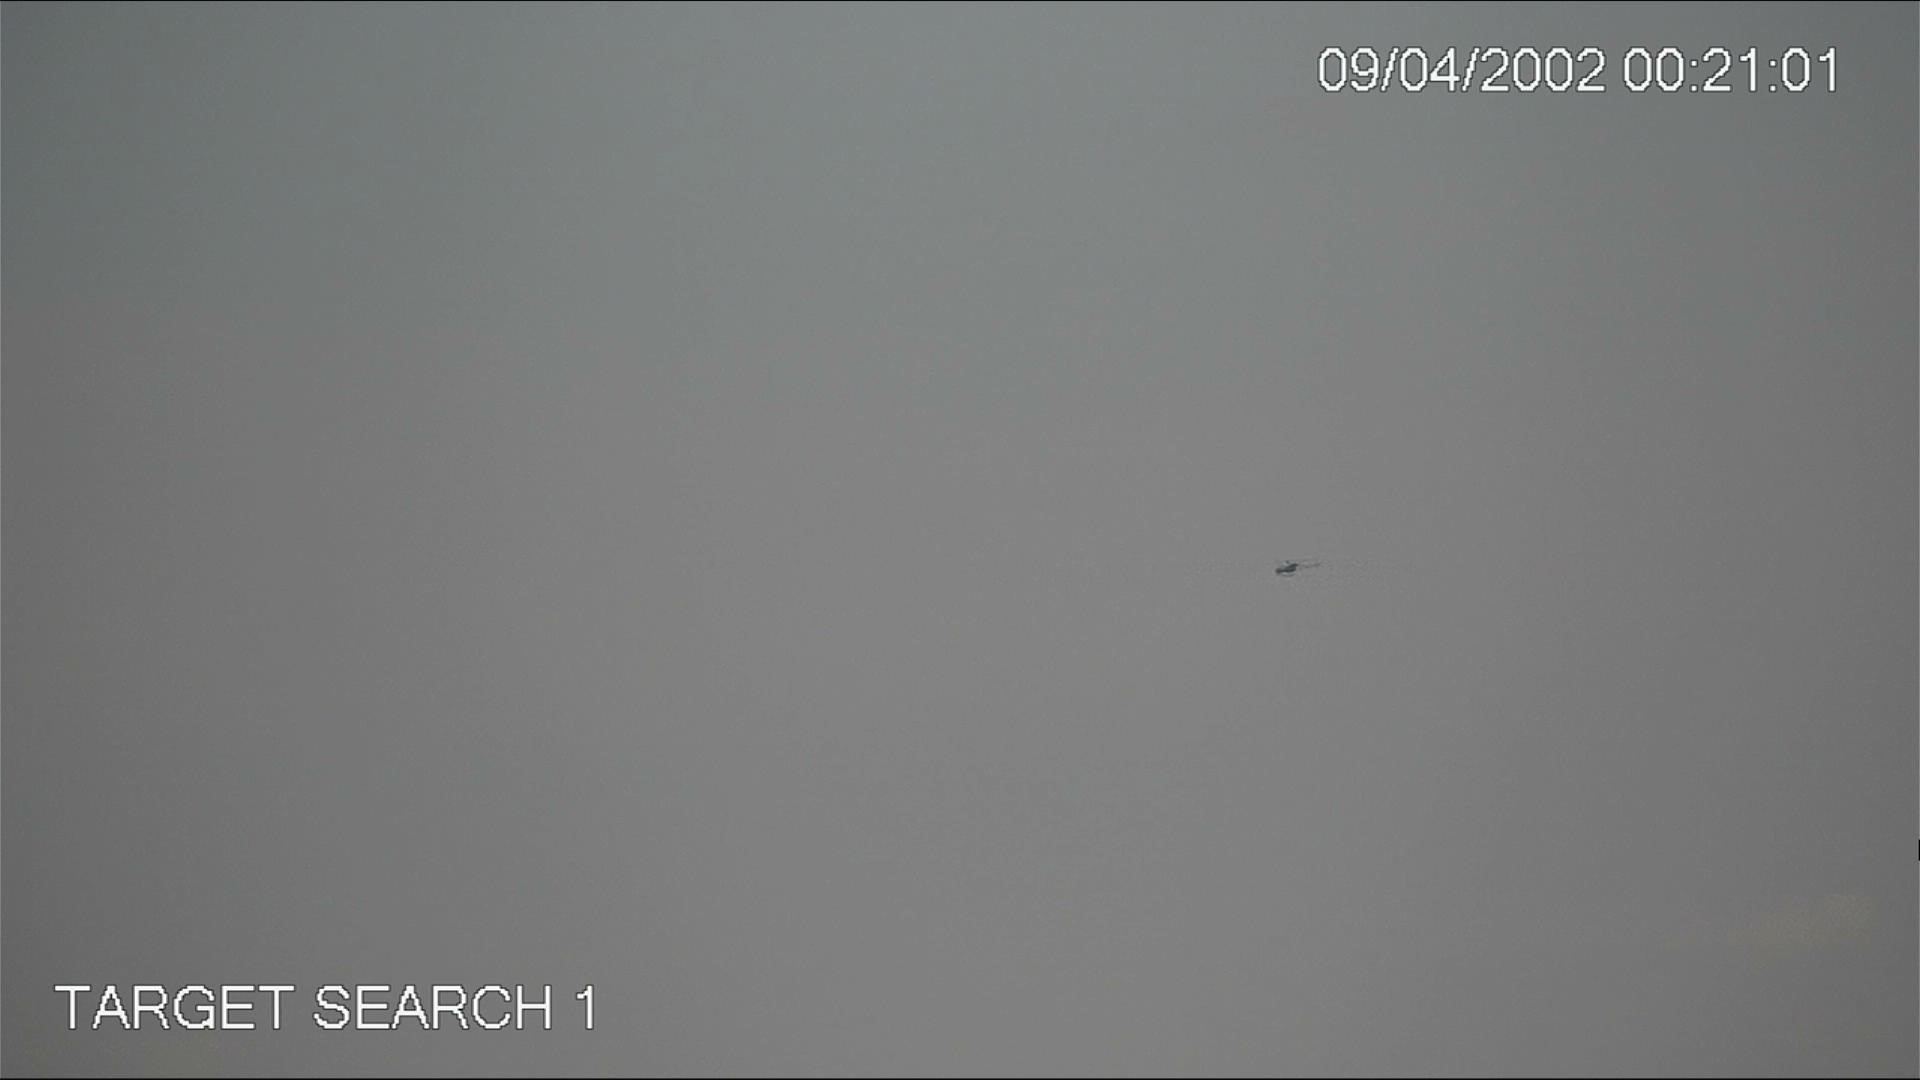SU_30: (1269, 556, 1299, 582)
